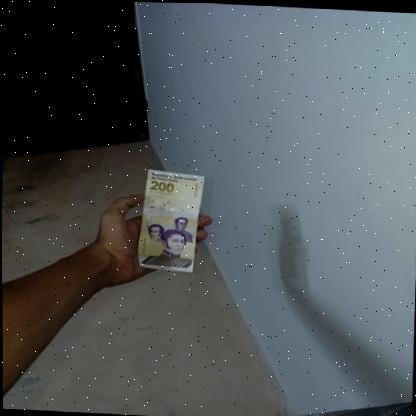two_hundred-front-vef: (136, 168, 206, 273)
